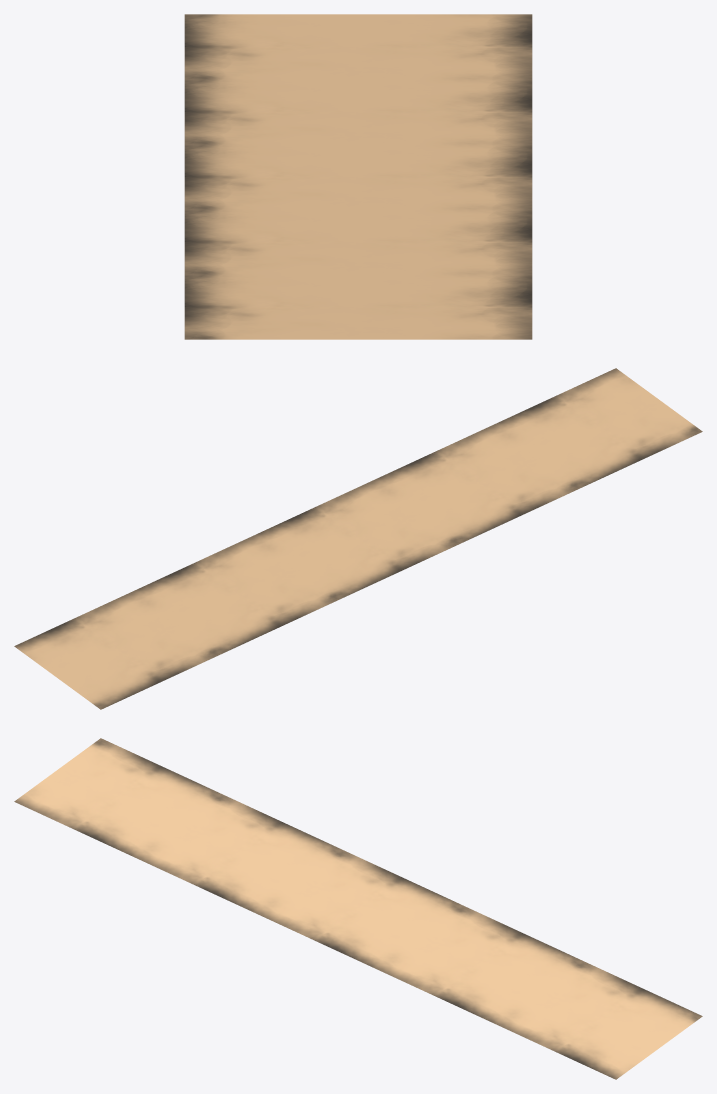
File: CourseSummer_Floor_15.fbx
The picture shows the model from 3 angles, top to bottom: view 1: azimuth 30°, elevation 25°; view 2: azimuth 150°, elevation 25°; view 3: azimuth 270°, elevation 25°; orthographic projection. The views are drawn at different scales.
Visible parts, largest first — view 1: polySurface20; view 2: polySurface20; view 3: polySurface20.
Boxes of the visible parts, x1,y1,x2,y2 form: polySurface20: (184,14,532,339); polySurface20: (14,368,702,709); polySurface20: (14,738,702,1079).
Size of the model in its own units: 17.2 by 5 by 23.78.
Materials: 1 (1 with a texture image).
